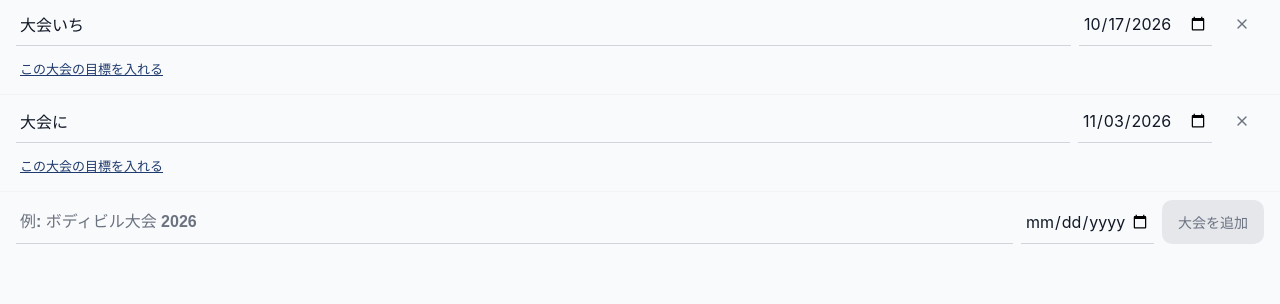
Test: ContestEditor — 目標の欄を開く（目標が1つも無い大会） › 大会ごとに別のボタン（名前つき）と別の欄になる。片方を開いてももう片方は閉じたまま
Click the button named "この大会の目標を入れる（大会いち）".
click(92, 68)  # box [16,46,167,90]
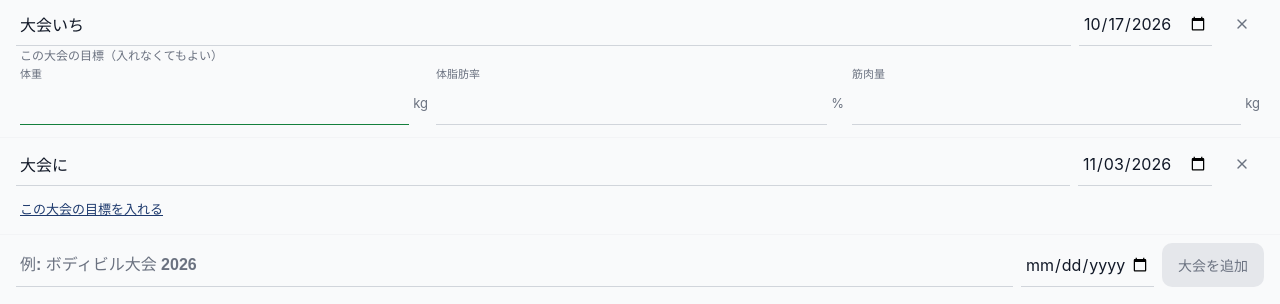
Expected: the button named "この大会の目標を入れる（大会に）" is shown, [16,186,167,230]
Result: the element named "大会いちの目標" is shown at [16,46,1264,133]
